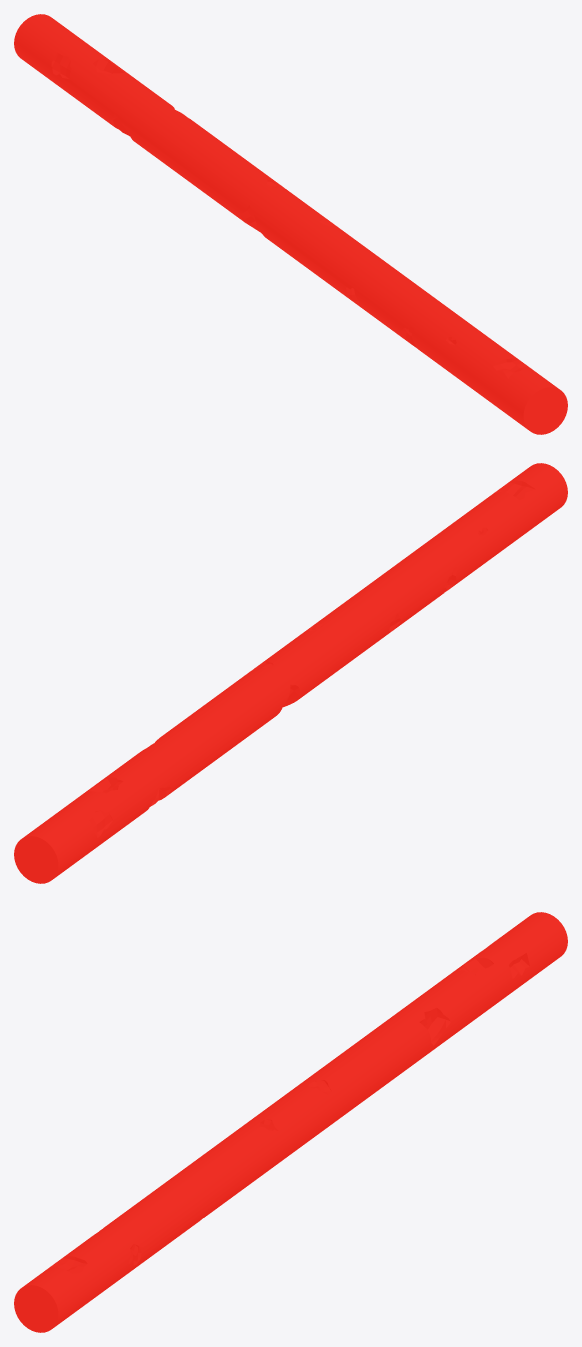
File: basicLaser.glb
The picture shows the model from 3 angles, top to bottom: view 1: azimuth 30°, elevation 25°; view 2: azimuth 150°, elevation 25°; view 3: azimuth 330°, elevation 25°; orthographic projection.
Parts seen in each view (by area): view 1: Cylinder; view 2: Cylinder; view 3: Cylinder.
Part boxes in pixels (<box>): Cylinder: <box>14,14,567,434</box>; Cylinder: <box>14,463,567,883</box>; Cylinder: <box>14,912,567,1332</box>.
Bounding box in the file's own units: 1.12 × 1.12 × 22.21.
